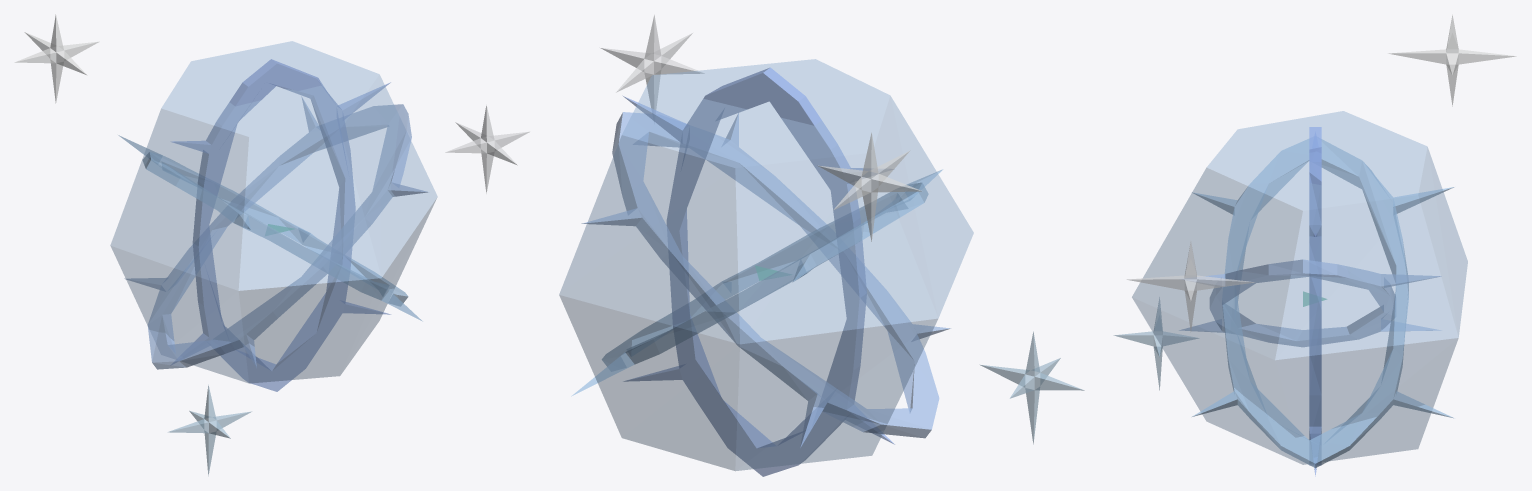
Rendered from tears-of-guthix.gltf.
3 views of the same model, side by side, from view 1: azimuth 30°, elevation 25°; view 2: azimuth 150°, elevation 25°; view 3: azimuth 270°, elevation 25° (orthographic). The views are drawn at different scales.
Bounding box in the file's own units: 149 × 133 × 130.
1 material, 1 textured.
